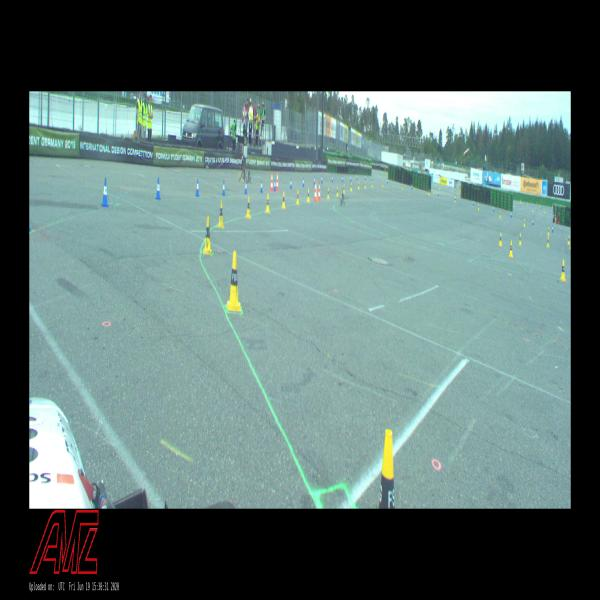blue_cone: (102, 177, 108, 207), (156, 177, 161, 199), (195, 178, 200, 196), (222, 180, 225, 196), (260, 180, 263, 192), (273, 179, 276, 191), (302, 177, 305, 188), (245, 180, 247, 194), (290, 178, 292, 189), (552, 225, 554, 233), (510, 212, 512, 217), (314, 176, 315, 185), (321, 176, 322, 184), (532, 218, 533, 225), (332, 175, 333, 182), (342, 176, 343, 182)
large_orange_cone: (270, 172, 273, 192), (314, 182, 317, 200), (318, 182, 321, 200), (276, 172, 278, 190)
yellow_cone: (379, 429, 395, 509), (227, 251, 241, 312), (203, 216, 212, 254), (218, 200, 224, 228), (560, 260, 566, 281), (246, 196, 251, 218), (266, 194, 270, 212), (509, 241, 513, 257), (282, 191, 285, 209), (296, 190, 299, 204), (546, 237, 550, 247), (499, 233, 502, 246), (307, 189, 310, 202), (316, 187, 318, 200), (519, 234, 521, 245), (327, 188, 329, 199), (343, 184, 345, 193), (568, 236, 570, 245), (336, 187, 338, 196), (548, 227, 550, 235), (350, 183, 352, 190), (524, 219, 526, 226), (364, 181, 366, 188), (358, 181, 359, 189), (382, 180, 383, 186), (372, 181, 373, 187)
